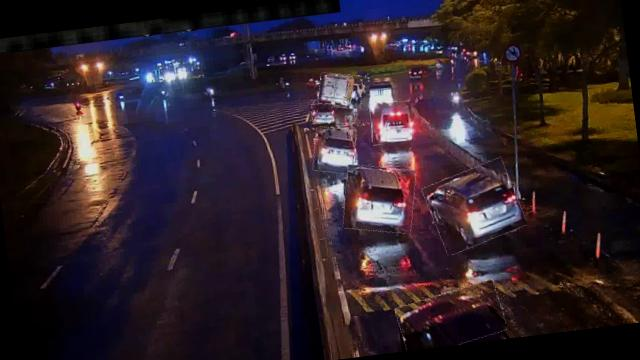Car: (424, 160, 526, 253), (394, 282, 506, 350), (338, 160, 420, 238), (310, 124, 360, 176), (368, 99, 414, 146), (310, 102, 334, 125)
Truck: (316, 70, 365, 112)
